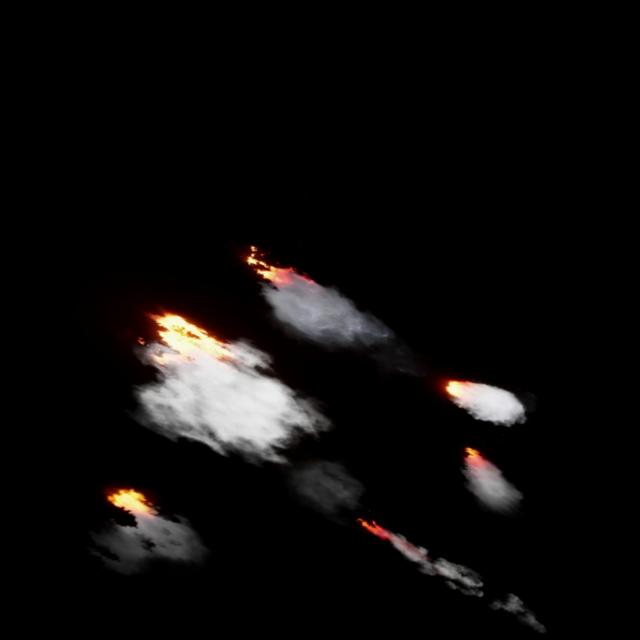fire: (134, 306, 238, 388), (225, 238, 322, 302), (107, 483, 158, 526), (456, 440, 496, 476), (352, 517, 393, 540), (442, 379, 472, 405)
smoke: (96, 303, 390, 514), (386, 540, 554, 634), (252, 268, 406, 368), (84, 498, 208, 594), (456, 458, 530, 520), (456, 376, 532, 433)
